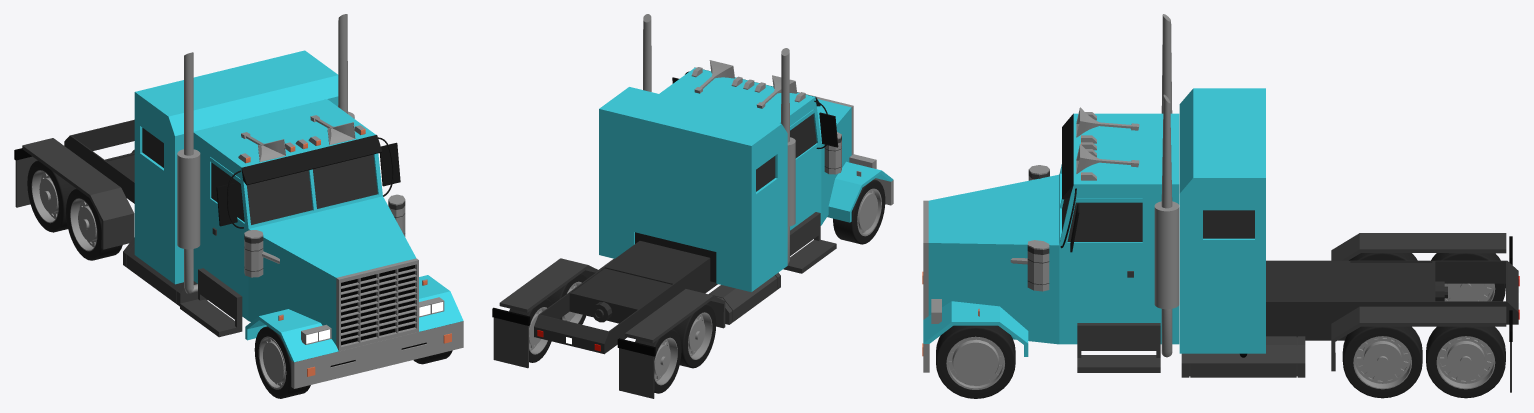
Rendered from FlatBed.glb.
3 renders of one model, left to right at view 1: azimuth 30°, elevation 25°; view 2: azimuth 150°, elevation 25°; view 3: azimuth 270°, elevation 25°, orthographic. The views are drawn at different scales.
Parts seen in each view (by area): view 1: Cube.231, Cube.233, Cube.256, Cube.235, Cube.234, Plane.008, Cylinder.082, Plane.007, Cube.253, Cube.258, Cube.232, Cube.236 (+15 smaller); view 2: Cube.233, Cube.258, Cube.231, Plane.008, Cube.247, Cylinder.093, Cylinder.092, Plane.007, Cube.236, Cylinder.082, Cube.251, Cylinder.089 (+10 smaller); view 3: Cube.231, Cube.233, Cube.258, Plane.008, Cylinder.093, Cylinder.092, Cylinder.083, Cube.237, Cube.250, Cube.256, Cylinder.089, Cylinder.088 (+7 smaller).
Part boxes in pixels (x1,y1,x2,y2): Cube.231: (193, 99, 415, 345); Cube.233: (134, 50, 338, 284); Cube.256: (211, 154, 377, 224); Cube.235: (291, 321, 463, 388); Cube.234: (336, 258, 418, 351); Plane.008: (22, 138, 134, 249); Cylinder.082: (177, 52, 200, 293); Plane.007: (245, 275, 463, 362); Cube.253: (341, 265, 414, 345); Cube.258: (64, 119, 134, 203); Cube.232: (241, 135, 382, 185); Cube.236: (180, 268, 242, 337); Cube.233: (599, 87, 787, 292); Cube.258: (534, 241, 717, 354); Cube.231: (659, 67, 851, 230); Plane.008: (499, 258, 725, 343); Cube.247: (493, 317, 654, 398); Cylinder.093: (509, 273, 716, 393); Cylinder.092: (529, 281, 712, 385); Plane.007: (827, 161, 893, 222); Cube.236: (783, 212, 836, 273); Cylinder.082: (781, 48, 795, 265); Cube.251: (708, 272, 780, 324); Cylinder.089: (833, 179, 885, 244); Cube.231: (928, 113, 1179, 344); Cube.233: (1179, 88, 1265, 353); Cube.258: (1266, 260, 1518, 340); Plane.008: (1331, 233, 1506, 371); Cylinder.093: (1342, 253, 1505, 398); Cylinder.092: (1353, 283, 1495, 389); Cylinder.083: (1154, 94, 1179, 357); Cube.237: (1077, 323, 1160, 372); Cube.250: (1181, 336, 1305, 377); Cube.256: (1062, 197, 1142, 241); Cylinder.089: (936, 325, 1015, 398); Cylinder.088: (946, 336, 1004, 389).
Size of the model in its own units: 3.66 by 5.38 by 9.67.
